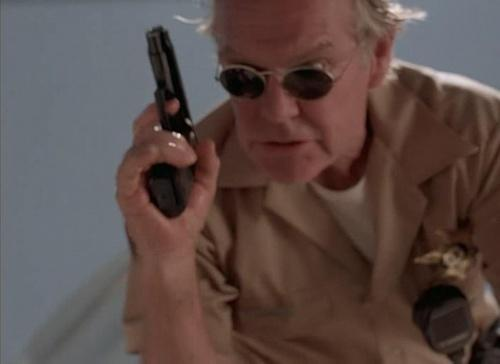Gun: (142, 25, 199, 219)
